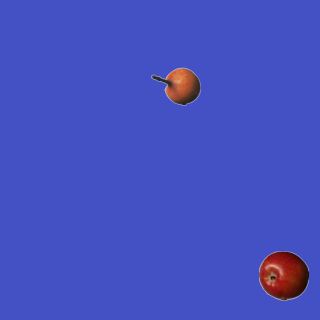Apple Braeburn: (258, 250, 308, 300)
Granadilla: (150, 61, 200, 111)
